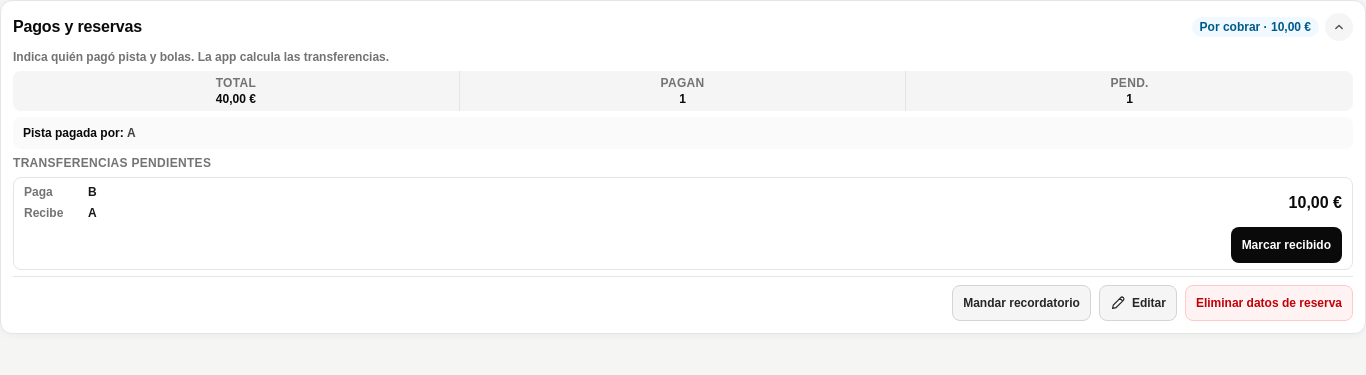
Test: payment feedback and permissions › distinguishes money to receive and reports rejected transfer/reminder requests beside their actions
This screenshot has width=1366, height=375.
Expected: the button "Por cobrar · 10,00 €" is shown, top-left (1192, 17), bottom-right (1319, 37)
Click the button with aria-label "Marcar transferencia como recibida": (1286, 245) top-left (1231, 227), bottom-right (1342, 263)
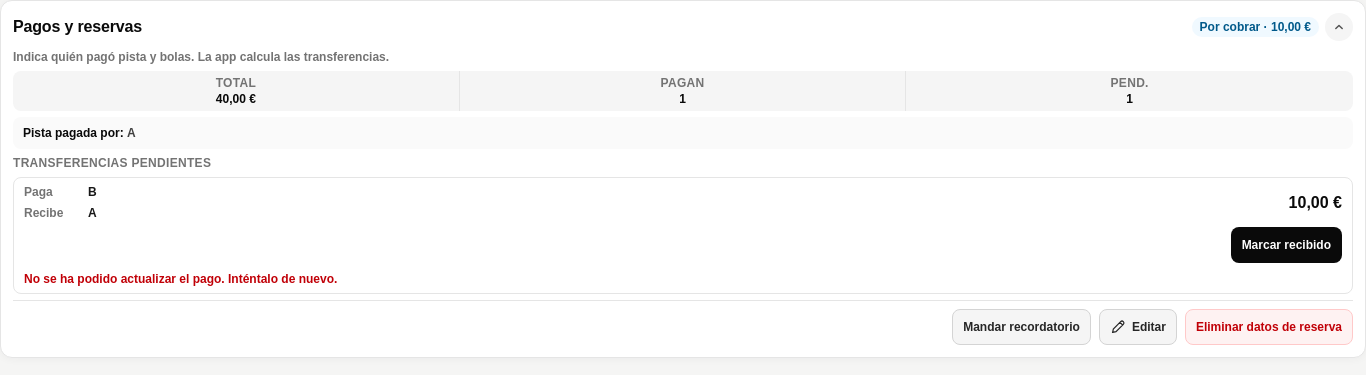
Now the message shows "No se ha podido actualizar el pago", box top-left (24, 272), bottom-right (337, 286)
Click the button "Mandar recordatorio": (1022, 327) top-left (952, 309), bottom-right (1091, 345)
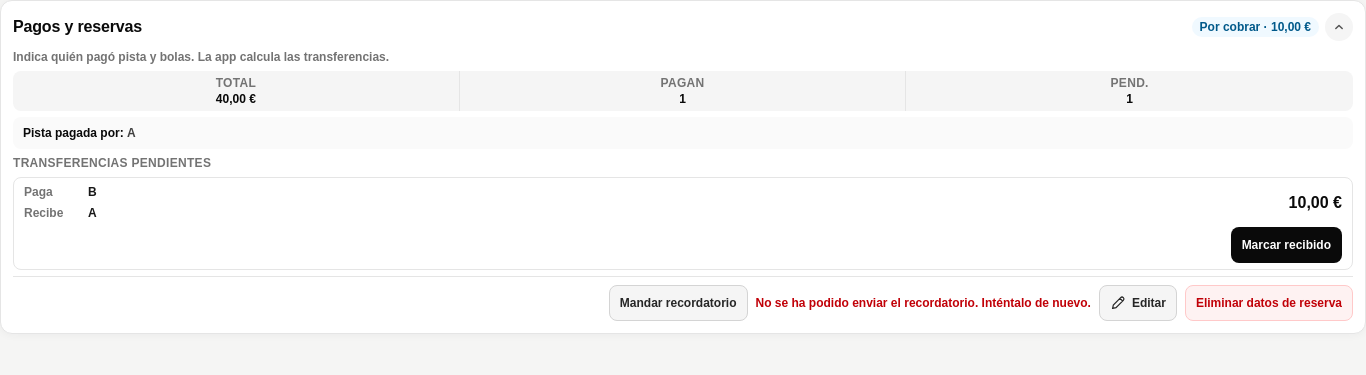
Now the message shows "No se ha podido enviar el recordatorio", box top-left (756, 296), bottom-right (1091, 310)
